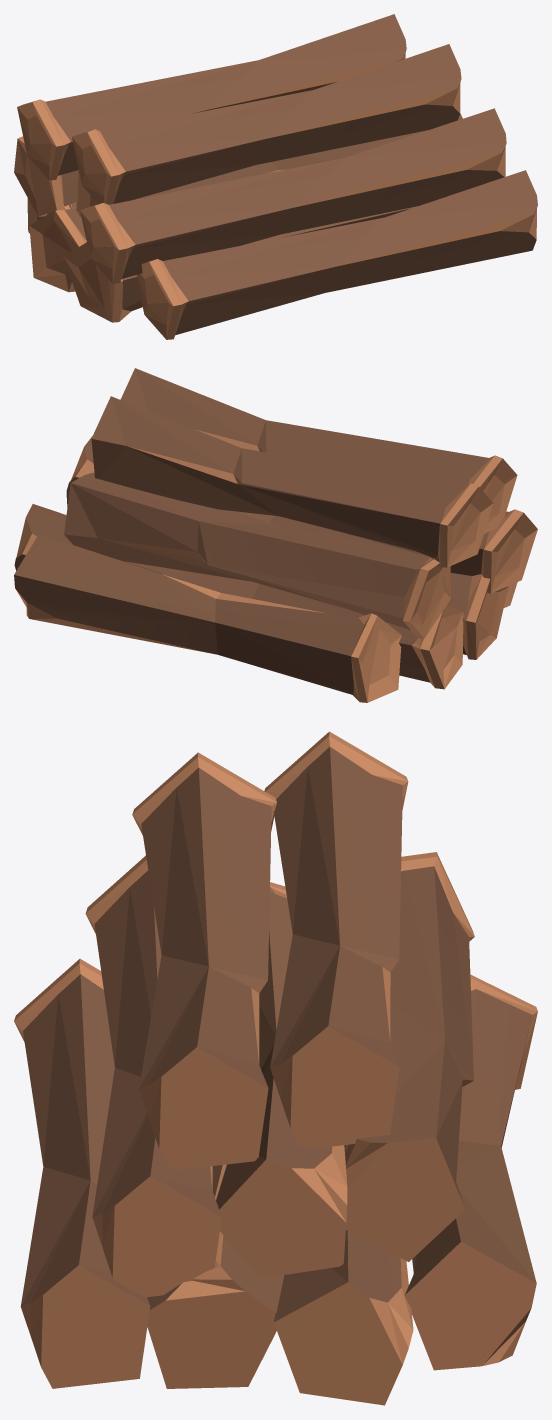
File: Woods.fbx
3 views of the same model, one above another, from view 1: azimuth 30°, elevation 25°; view 2: azimuth 150°, elevation 25°; view 3: azimuth 270°, elevation 25° (orthographic). The views are drawn at different scales.
Visible parts, largest first — view 1: Woods; view 2: Woods; view 3: Woods.
Part boxes in pixels (x1,y1,x2,y2): Woods: (14, 14, 537, 339); Woods: (14, 368, 537, 702); Woods: (14, 731, 537, 1405).
Bounding box in the file's own units: 223 × 95.68 × 139.
